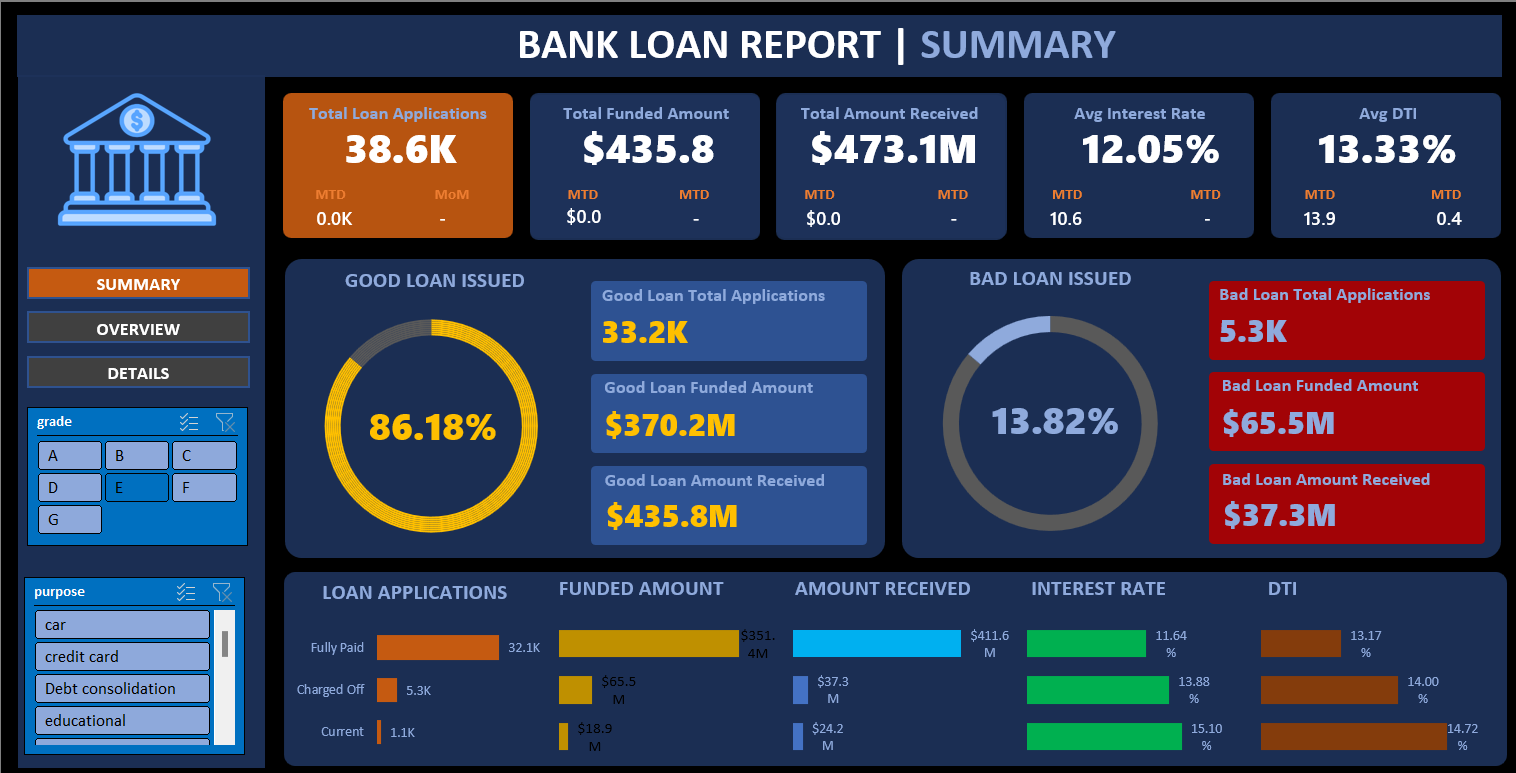

The page's visual inventory and layout, read from the dashboard file:
{"tool":"powerbi","page":{"name":"Summary","canvas":[1280,720],"ordinal":0},"visuals":[{"type":"shape","box":[0,0,1280,54.7],"z":0},{"type":"shape","box":[1069,57.6,194.9,116.5],"z":0,"group":"g7"},{"type":"shape","box":[206.3,62.9,194.9,116.5],"z":0,"group":"g1"},{"type":"shape","box":[421.8,62.9,194.9,116.5],"z":0,"group":"g2"},{"type":"shape","box":[852.9,63.8,194.9,116.5],"z":0,"group":"g6"},{"type":"shape","box":[637.4,63.9,194.9,116.5],"z":0,"group":"g5"},{"type":"shape","box":[0,54.7,191.8,665.3],"z":1000},{"type":"card","fields":{"Values":["bank_loan_data.Avg DTI"]},"box":[1064.9,76.1,194.9,43.3],"z":1000,"group":"g7"},{"type":"card","fields":{"Values":["bank_loan_data.Total Loan Application"]},"box":[202.2,81.5,194.9,43.3],"z":1000,"group":"g1"},{"type":"card","fields":{"Values":["bank_loan_data.Total Funded Amount"]},"box":[417.7,81.5,194.9,43.3],"z":1000,"group":"g2"},{"type":"card","fields":{"Values":["bank_loan_data.Avg Interest Rate"]},"box":[848.8,82.4,194.9,43.3],"z":1000,"group":"g6"},{"type":"card","fields":{"Values":["bank_loan_data.Total Amount Received"]},"box":[633.3,82.5,194.9,43.3],"z":1000,"group":"g5"},{"type":"textbox","box":[1065.7,55.6,197,39.2],"z":2000,"group":"g7"},{"type":"textbox","box":[849.7,61.9,197,39.2],"z":2000,"group":"g6"},{"type":"textbox","box":[217.7,62.9,165,37.1],"z":2000,"group":"g1"},{"type":"textbox","box":[433.2,62.9,165,37.1],"z":2000,"group":"g2"},{"type":"textbox","box":[648.8,63.9,165,37.1],"z":2000,"group":"g5"},{"type":"shape","box":[206.3,199.1,521.9,259.9],"z":2000},{"type":"card","title":"MTD","fields":{"Values":["bank_loan_data.MTD Avg DTI"]},"box":[1080.3,124.6,53.6,49.5],"z":3000,"group":"g7"},{"type":"card","title":"MTD","fields":{"Values":["bank_loan_data.MTD Loan Applications"]},"box":[217.7,129.9,53.6,49.5],"z":3000,"group":"g1"},{"type":"card","title":"MTD","fields":{"Values":["bank_loan_data.MTD Funded Amount"]},"box":[433.2,129.9,53.6,49.5],"z":3000,"group":"g2"},{"type":"card","title":"MTD","fields":{"Values":["bank_loan_data.MTD Total Amount Recieved"]},"box":[648.8,130.9,53.6,49.5],"z":3000,"group":"g5"},{"type":"card","title":"MTD","fields":{"Values":["bank_loan_data.MTD Avg Int Rate"]},"box":[864.3,130.9,53.6,49.5],"z":3000,"group":"g6"},{"type":"card","fields":{"Values":["bank_loan_data.Good Loan %"]},"box":[264,322.8,133.1,43.3],"z":3000},{"type":"card","title":"MoM","fields":{"Values":["bank_loan_data.MoM Avg DTI"]},"box":[1191.7,124.6,53.6,49.5],"z":4000,"group":"g7"},{"type":"card","title":"MoM","fields":{"Values":["bank_loan_data.MoM Loan Applications"]},"box":[329.1,129.9,53.6,49.5],"z":4000,"group":"g1"},{"type":"card","title":"MoM","fields":{"Values":["bank_loan_data.MoM Total Funded Amount"]},"box":[544.6,129.9,53.6,49.5],"z":4000,"group":"g2"},{"type":"card","title":"MoM","fields":{"Values":["bank_loan_data.MoM Total Amount Received"]},"box":[760.2,130.9,53.6,49.5],"z":4000,"group":"g5"},{"type":"card","title":"MoM","fields":{"Values":["bank_loan_data.MoM Avg Int Rate"]},"box":[975.7,130.9,53.6,49.5],"z":4000,"group":"g6"},{"type":"textbox","box":[248.6,210.4,165,37.1],"z":4000},{"type":"textbox","box":[420.8,3.1,438.3,49.5],"z":5000},{"type":"group","id":"g1","title":"Group 2","box":[202.2,62.9,199.1,116.5],"z":5004,"group":"g3"},{"type":"group","id":"g2","title":"Group 2","box":[417.7,62.9,199.1,116.5],"z":5004,"group":"g4"},{"type":"group","id":"g3","title":"Group 1","box":[202.2,62.9,199.1,116.5],"z":6000},{"type":"shape","box":[206.4,473.2,1056.6,246.3],"z":7000},{"type":"group","id":"g4","title":"Group 1","box":[417.7,62.9,199.1,116.5],"z":8000},{"type":"group","id":"g5","title":"Group 2","box":[633.3,63.9,199.1,116.5],"z":9000},{"type":"group","id":"g6","title":"Group 2","box":[848.8,61.9,199.1,118.6],"z":10000},{"type":"group","id":"g7","title":"Group 2","box":[25,54.4,1238.9,139.2],"z":11000},{"type":"shape","box":[741.6,199.1,521.9,259.9],"z":12000},{"type":"donutChart","fields":{"Category":["bank_loan_data.Good vs Bad Loan"],"Y":["bank_loan_data.Total Loan Application"]},"box":[206.3,229,249.6,230],"z":13000},{"type":"cardVisual","fields":{"Data":["bank_loan_data.Good Loan Applications","bank_loan_data.Good Loan Funded Amount","bank_loan_data.Good Loan Received Amount"]},"box":[459,199.1,269.2,259.9],"z":14000},{"type":"donutChart","fields":{"Category":["bank_loan_data.Good vs Bad Loan"],"Y":["bank_loan_data.Total Loan Application"]},"box":[741.6,230,249.6,230],"z":15000},{"type":"textbox","box":[783.9,211.4,165,37.1],"z":16000},{"type":"card","fields":{"Values":["bank_loan_data.Bad Loan %"]},"box":[799.3,322.8,133.1,43.3],"z":17000},{"type":"cardVisual","fields":{"Data":["bank_loan_data.Bad Loan Applications","bank_loan_data.Bad Loan Funded Amount","bank_loan_data.Bad Loan Received Amount"]},"box":[994.3,200.1,269.2,259.9],"z":18000},{"type":"tableEx","fields":{"Values":["bank_loan_data.loan_status","bank_loan_data.Total Loan Application","bank_loan_data.Total Funded Amount","bank_loan_data.Total Amount Received","bank_loan_data.MTD Funded Amount","bank_loan_data.MTD Total Amount Recieved","bank_loan_data.Avg Interest Rate","bank_loan_data.Avg DTI"]},"box":[206.4,498.1,1055.5,221.5],"z":19000},{"type":"textbox","box":[212.8,473.2,176.1,37.8],"z":20000},{"type":"slicer","fields":{"Values":["bank_loan_data.address_state"]},"box":[7.6,426.8,176.1,46.5],"z":21000},{"type":"textbox","box":[8.6,394.3,60.5,32.4],"z":22000},{"type":"slicer","fields":{"Values":["bank_loan_data.grade"]},"box":[7.6,522.9,176.1,46.5],"z":23000},{"type":"slicer","fields":{"Values":["bank_loan_data.purpose"]},"box":[7.6,621.2,176.1,46.5],"z":24000},{"type":"textbox","box":[8.6,593.1,87.5,32.4],"z":25000},{"type":"textbox","box":[8.6,492.7,60.5,32.4],"z":26000},{"type":"image","box":[25,54.4,139.2,139.2],"z":26001,"group":"g7"},{"type":"pageNavigator","box":[8.3,198,175.3,168.1],"z":27000}]}

Visuals, with their boxes on the page's 1280x720 design canvas (x1, y1, x2, y2). These are canvas units, not pixel positions in the 1516x773 screenshot, which may show the page scaled, cropped or inside an application window:
shape: pyautogui.locateOnScreen(0, 0, 1280, 55)
shape: pyautogui.locateOnScreen(1069, 58, 1264, 174)
shape: pyautogui.locateOnScreen(206, 63, 401, 179)
shape: pyautogui.locateOnScreen(422, 63, 617, 179)
shape: pyautogui.locateOnScreen(853, 64, 1048, 180)
shape: pyautogui.locateOnScreen(637, 64, 832, 180)
shape: pyautogui.locateOnScreen(0, 55, 192, 720)
card - bank_loan_data.Avg DTI: pyautogui.locateOnScreen(1065, 76, 1260, 119)
card - bank_loan_data.Total Loan Application: pyautogui.locateOnScreen(202, 82, 397, 125)
card - bank_loan_data.Total Funded Amount: pyautogui.locateOnScreen(418, 82, 613, 125)
card - bank_loan_data.Avg Interest Rate: pyautogui.locateOnScreen(849, 82, 1044, 126)
card - bank_loan_data.Total Amount Received: pyautogui.locateOnScreen(633, 82, 828, 126)
textbox: pyautogui.locateOnScreen(1066, 56, 1263, 95)
textbox: pyautogui.locateOnScreen(850, 62, 1047, 101)
textbox: pyautogui.locateOnScreen(218, 63, 383, 100)
textbox: pyautogui.locateOnScreen(433, 63, 598, 100)
textbox: pyautogui.locateOnScreen(649, 64, 814, 101)
shape: pyautogui.locateOnScreen(206, 199, 728, 459)
"MTD" card: pyautogui.locateOnScreen(1080, 125, 1134, 174)
"MTD" card: pyautogui.locateOnScreen(218, 130, 271, 179)
"MTD" card: pyautogui.locateOnScreen(433, 130, 487, 179)
"MTD" card: pyautogui.locateOnScreen(649, 131, 702, 180)
"MTD" card: pyautogui.locateOnScreen(864, 131, 918, 180)
card - bank_loan_data.Good Loan %: pyautogui.locateOnScreen(264, 323, 397, 366)
"MoM" card: pyautogui.locateOnScreen(1192, 125, 1245, 174)
"MoM" card: pyautogui.locateOnScreen(329, 130, 383, 179)
"MoM" card: pyautogui.locateOnScreen(545, 130, 598, 179)
"MoM" card: pyautogui.locateOnScreen(760, 131, 814, 180)
"MoM" card: pyautogui.locateOnScreen(976, 131, 1029, 180)
textbox: pyautogui.locateOnScreen(249, 210, 414, 248)
textbox: pyautogui.locateOnScreen(421, 3, 859, 53)
"Group 2" group: pyautogui.locateOnScreen(202, 63, 401, 179)
"Group 2" group: pyautogui.locateOnScreen(418, 63, 617, 179)
"Group 1" group: pyautogui.locateOnScreen(202, 63, 401, 179)
shape: pyautogui.locateOnScreen(206, 473, 1263, 720)
"Group 1" group: pyautogui.locateOnScreen(418, 63, 617, 179)
"Group 2" group: pyautogui.locateOnScreen(633, 64, 832, 180)
"Group 2" group: pyautogui.locateOnScreen(849, 62, 1048, 180)
"Group 2" group: pyautogui.locateOnScreen(25, 54, 1264, 194)
shape: pyautogui.locateOnScreen(742, 199, 1264, 459)
donutChart - bank_loan_data.Good vs Bad Loan x bank_loan_data.Total Loan Application: pyautogui.locateOnScreen(206, 229, 456, 459)
cardVisual - bank_loan_data.Good Loan Applications x bank_loan_data.Good Loan Funded Amount: pyautogui.locateOnScreen(459, 199, 728, 459)
donutChart - bank_loan_data.Good vs Bad Loan x bank_loan_data.Total Loan Application: pyautogui.locateOnScreen(742, 230, 991, 460)
textbox: pyautogui.locateOnScreen(784, 211, 949, 248)
card - bank_loan_data.Bad Loan %: pyautogui.locateOnScreen(799, 323, 932, 366)
cardVisual - bank_loan_data.Bad Loan Applications x bank_loan_data.Bad Loan Funded Amount: pyautogui.locateOnScreen(994, 200, 1264, 460)
tableEx - bank_loan_data.loan_status x bank_loan_data.Total Loan Application: pyautogui.locateOnScreen(206, 498, 1262, 720)
textbox: pyautogui.locateOnScreen(213, 473, 389, 511)
slicer - bank_loan_data.address_state: pyautogui.locateOnScreen(8, 427, 184, 473)
textbox: pyautogui.locateOnScreen(9, 394, 69, 427)
slicer - bank_loan_data.grade: pyautogui.locateOnScreen(8, 523, 184, 569)
slicer - bank_loan_data.purpose: pyautogui.locateOnScreen(8, 621, 184, 668)
textbox: pyautogui.locateOnScreen(9, 593, 96, 626)
textbox: pyautogui.locateOnScreen(9, 493, 69, 525)
image: pyautogui.locateOnScreen(25, 54, 164, 194)
pageNavigator: pyautogui.locateOnScreen(8, 198, 184, 366)
